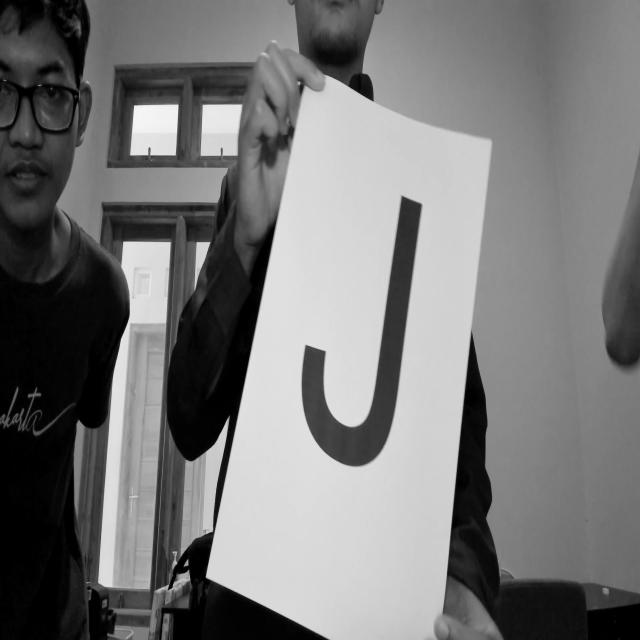j: (297, 185, 443, 485)
